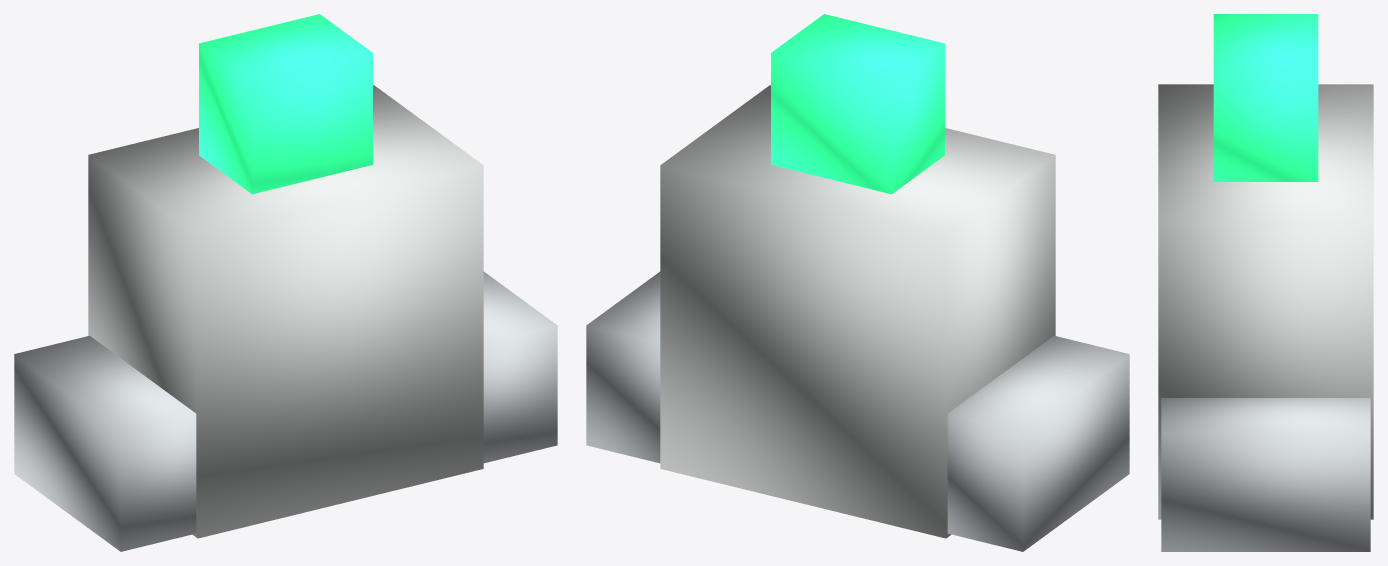
File: 46_L95_LED1_ClockStatusGreen.fbx
3 views of the same model, side by side, from view 1: azimuth 30°, elevation 25°; view 2: azimuth 150°, elevation 25°; view 3: azimuth 270°, elevation 25° (orthographic).
Parts seen in each view (by area): view 1: L95_ClockStatusGreen_Part_0000, L95_ClockStatusGreen_Part_0002, L95_ClockStatusGreen_Part_0001; view 2: L95_ClockStatusGreen_Part_0000, L95_ClockStatusGreen_Part_0002, L95_ClockStatusGreen_Part_0001; view 3: L95_ClockStatusGreen_Part_0000, L95_ClockStatusGreen_Part_0002, L95_ClockStatusGreen_Part_0001.
Boxes of the visible parts, x1=… form: L95_ClockStatusGreen_Part_0000: x1=88, y1=85, x2=483, y2=538; L95_ClockStatusGreen_Part_0002: x1=14, y1=271, x2=557, y2=551; L95_ClockStatusGreen_Part_0001: x1=199, y1=14, x2=372, y2=194; L95_ClockStatusGreen_Part_0000: x1=660, y1=85, x2=1055, y2=538; L95_ClockStatusGreen_Part_0002: x1=586, y1=271, x2=1129, y2=551; L95_ClockStatusGreen_Part_0001: x1=771, y1=14, x2=944, y2=194; L95_ClockStatusGreen_Part_0000: x1=1158, y1=84, x2=1373, y2=519; L95_ClockStatusGreen_Part_0002: x1=1161, y1=398, x2=1370, y2=551; L95_ClockStatusGreen_Part_0001: x1=1213, y1=14, x2=1318, y2=181.
Size of the model in its own units: 0.0572 by 0.052 by 0.0249.
